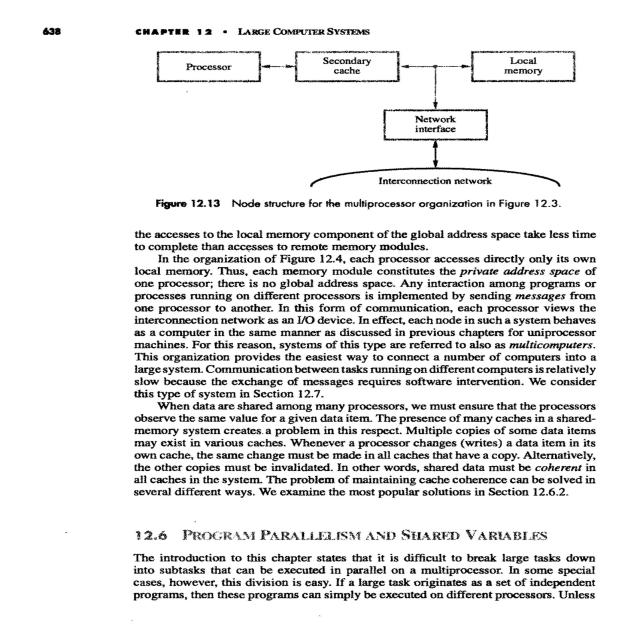diagram: (78, 38, 596, 218)
